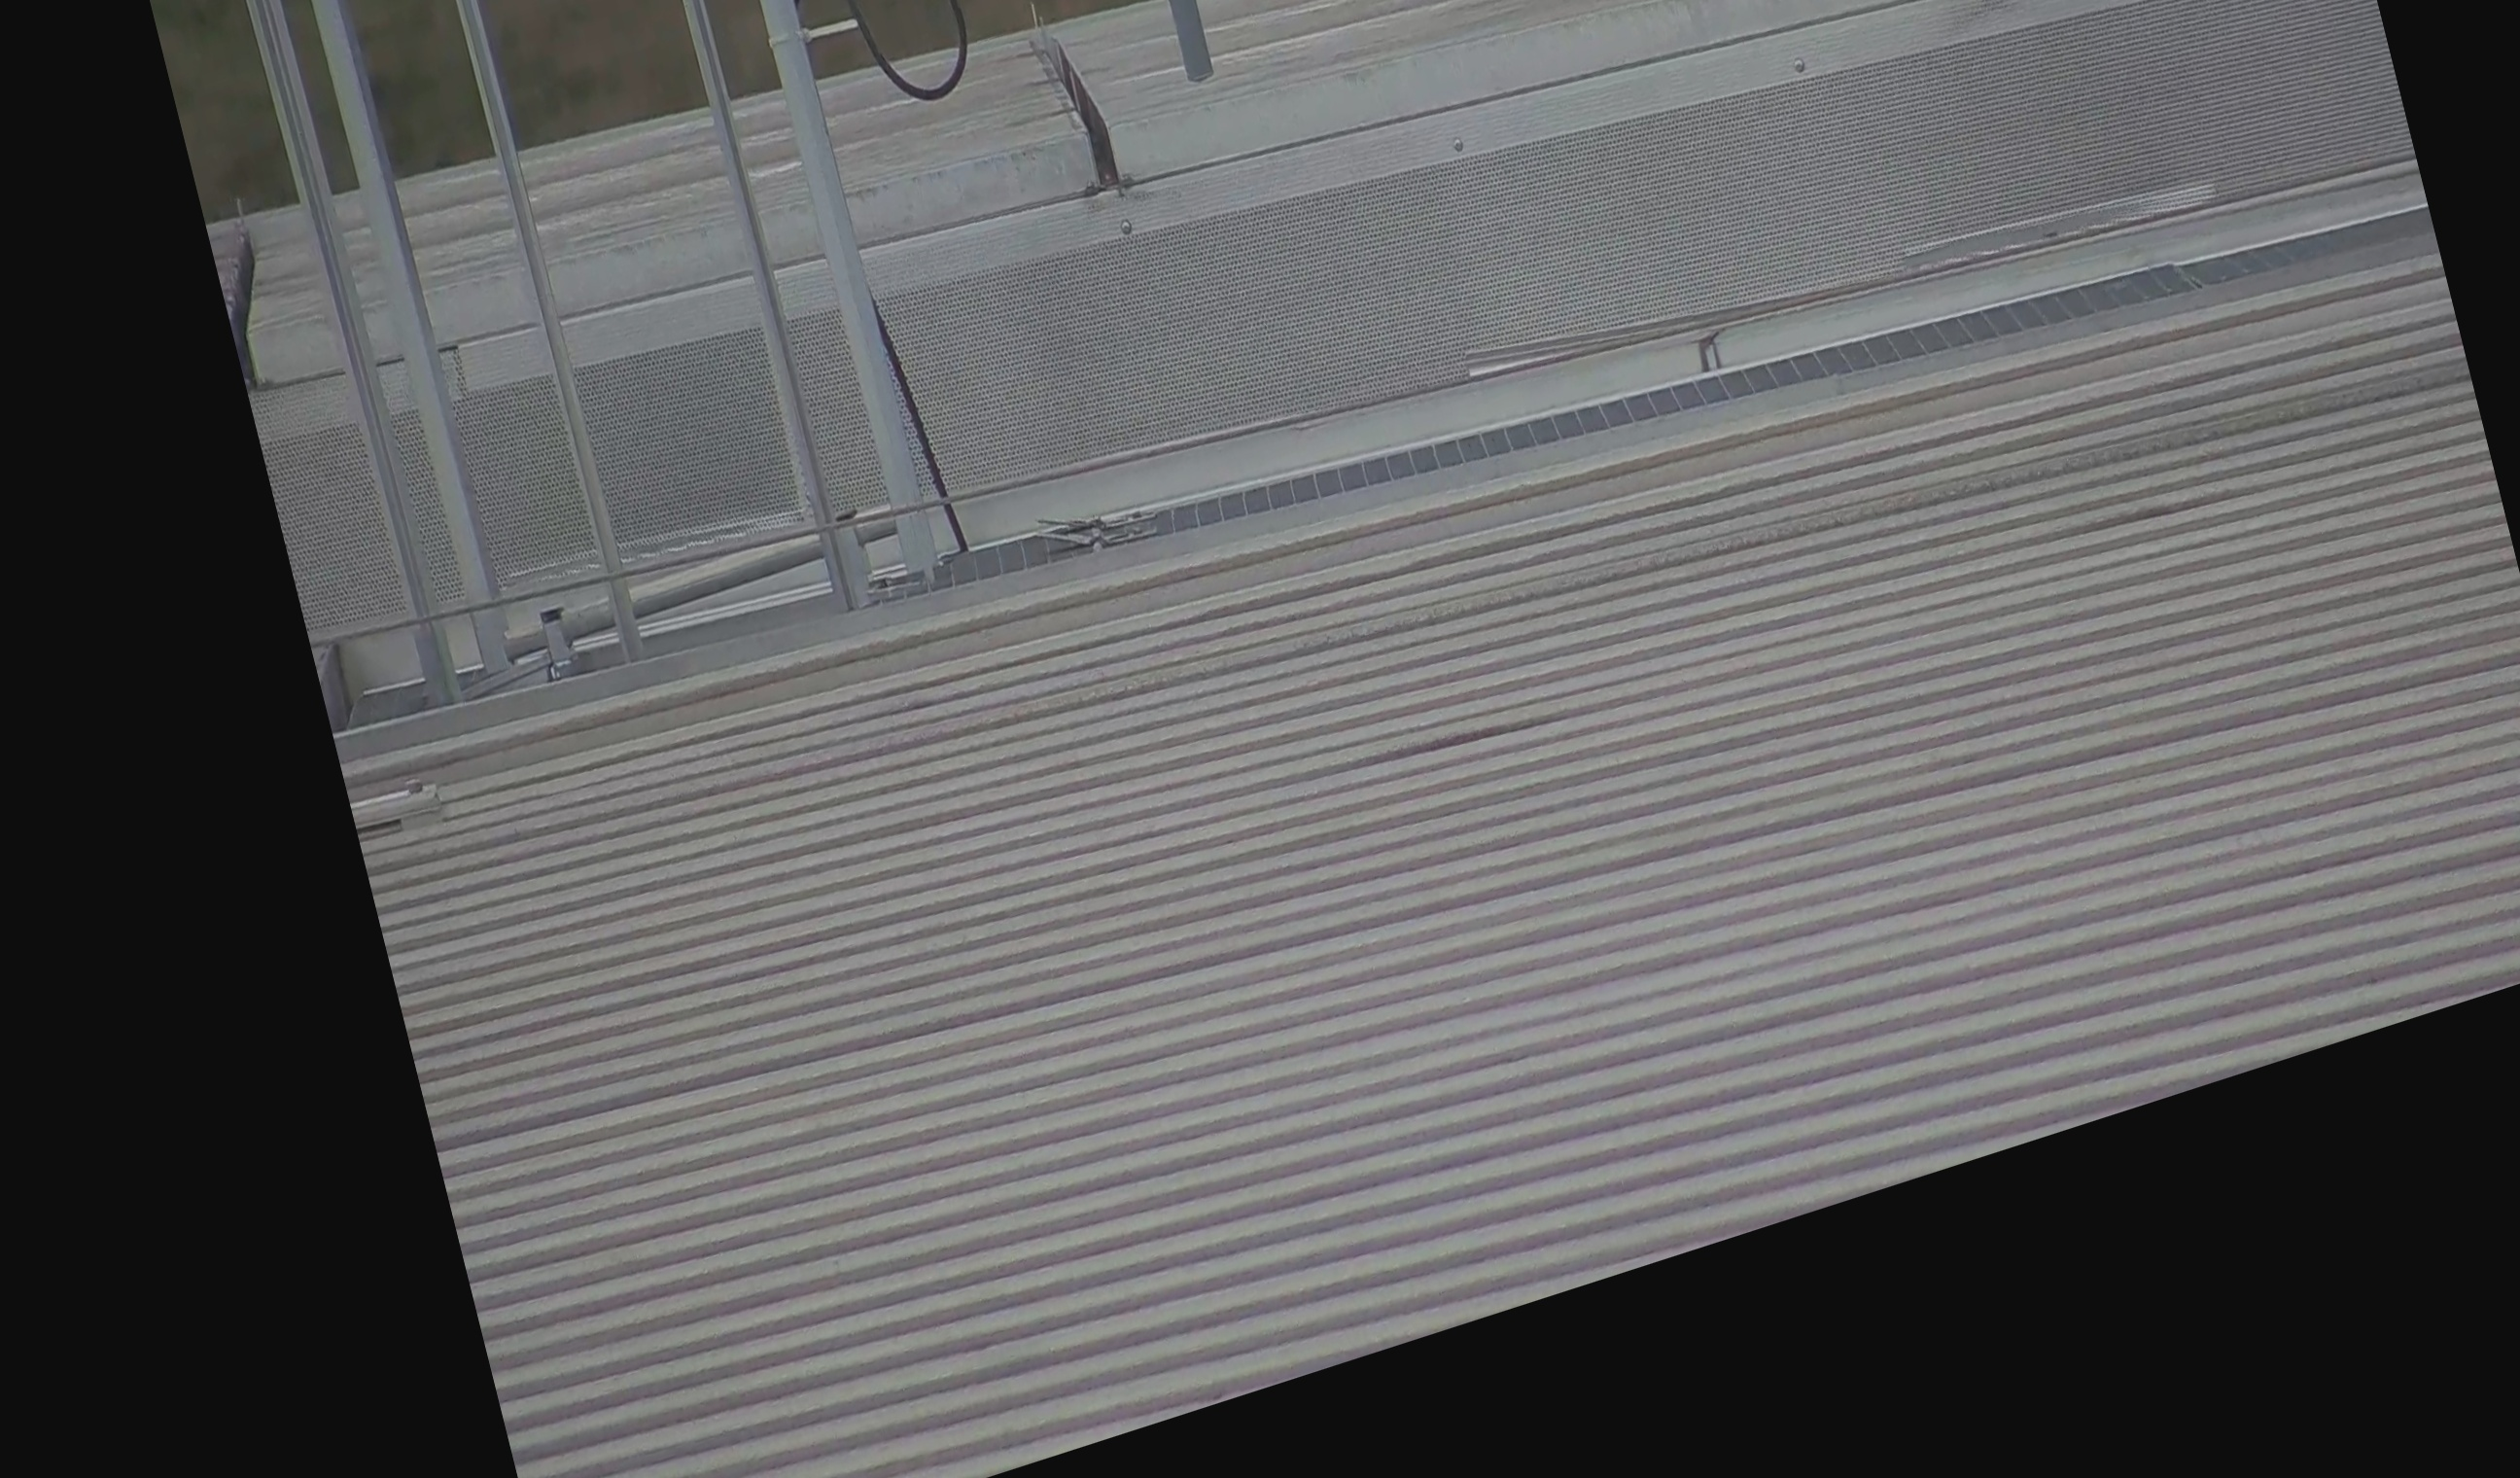Other: (167, 179, 295, 412)
